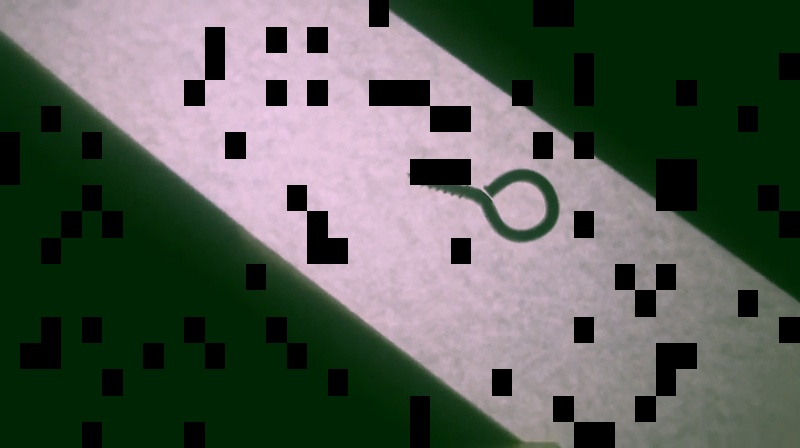O001: (405, 166, 563, 246)
